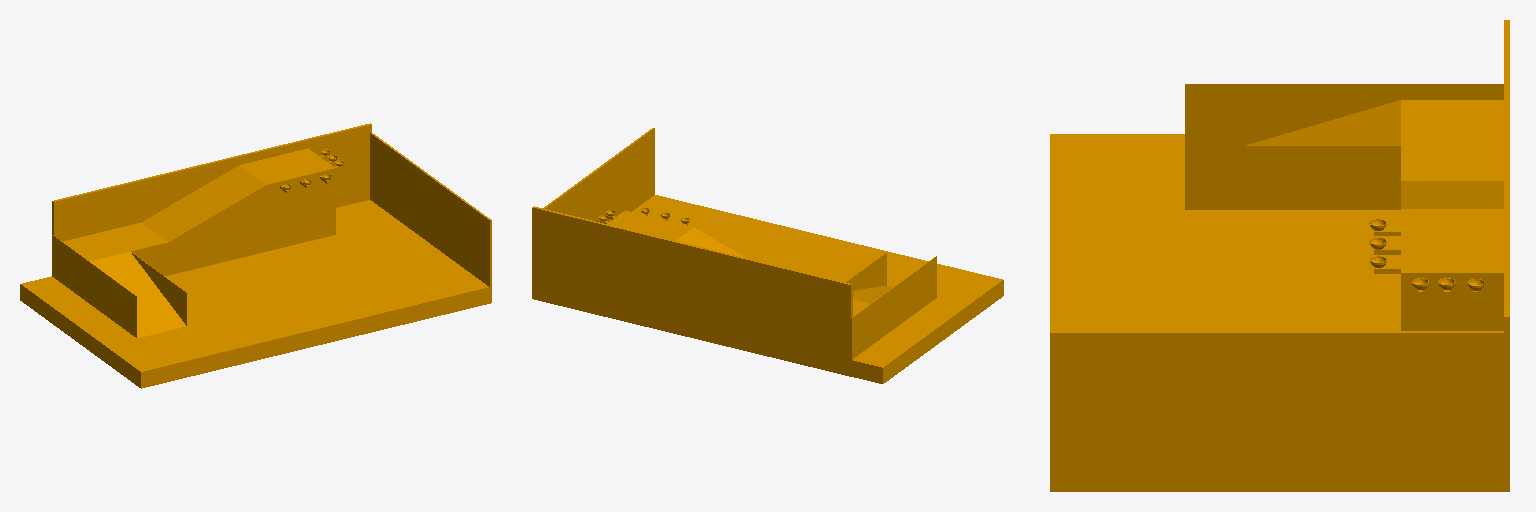
URDF robot description (ramp):
<?xml version="1.0"?>
<robot name="ramp">

  <link name="ramp_link">
    <visual>
      <geometry>
        <mesh filename="package://gazebo_models/meshes/rampcoco.stl" scale="0.001 0.001 0.001"/>
      </geometry>
    </visual>

    <collision>
      <geometry>
        <mesh filename="package://gazebo_models/meshes/rampcoco.stl" scale="0.001 0.001 0.001"/>
      </geometry>
    </collision>

    <inertial>
      	<origin xyz="-2.20852 1.656524 0.260341" rpy="0 0 3.14159"/>
  	<mass value="3985.0"/>
  	<inertia 
    		ixx="2625.0" ixy="-39.01" ixz="-138.5"
    		iyy="5971.0" iyz="-372.5"
    		izz="8105.0"/>
    </inertial>
  </link>
  
  

</robot>

--- Render facts (derived) ---
3 views of the same robot in one strip: view 1: azimuth 30°, elevation 25°; view 2: azimuth 150°, elevation 25°; view 3: azimuth 270°, elevation 25° (orthographic).
Model ramp with 1 links and 0 joints (none), rooted at ramp_link, posed all joints at 0.
Visible links, largest first — view 1: ramp_link; view 2: ramp_link; view 3: ramp_link.
Link boxes in pixels (left/top/right/bottom): ramp_link: left=20, top=123, right=491, bottom=388; ramp_link: left=532, top=128, right=1003, bottom=383; ramp_link: left=1050, top=20, right=1509, bottom=491.
Bounding box of the posed robot: 4.4 × 2.62 × 1.1 m (x, y, z).
Meshes: 1 distinct files referenced, 1 mesh visuals loaded (1 binary STL).
